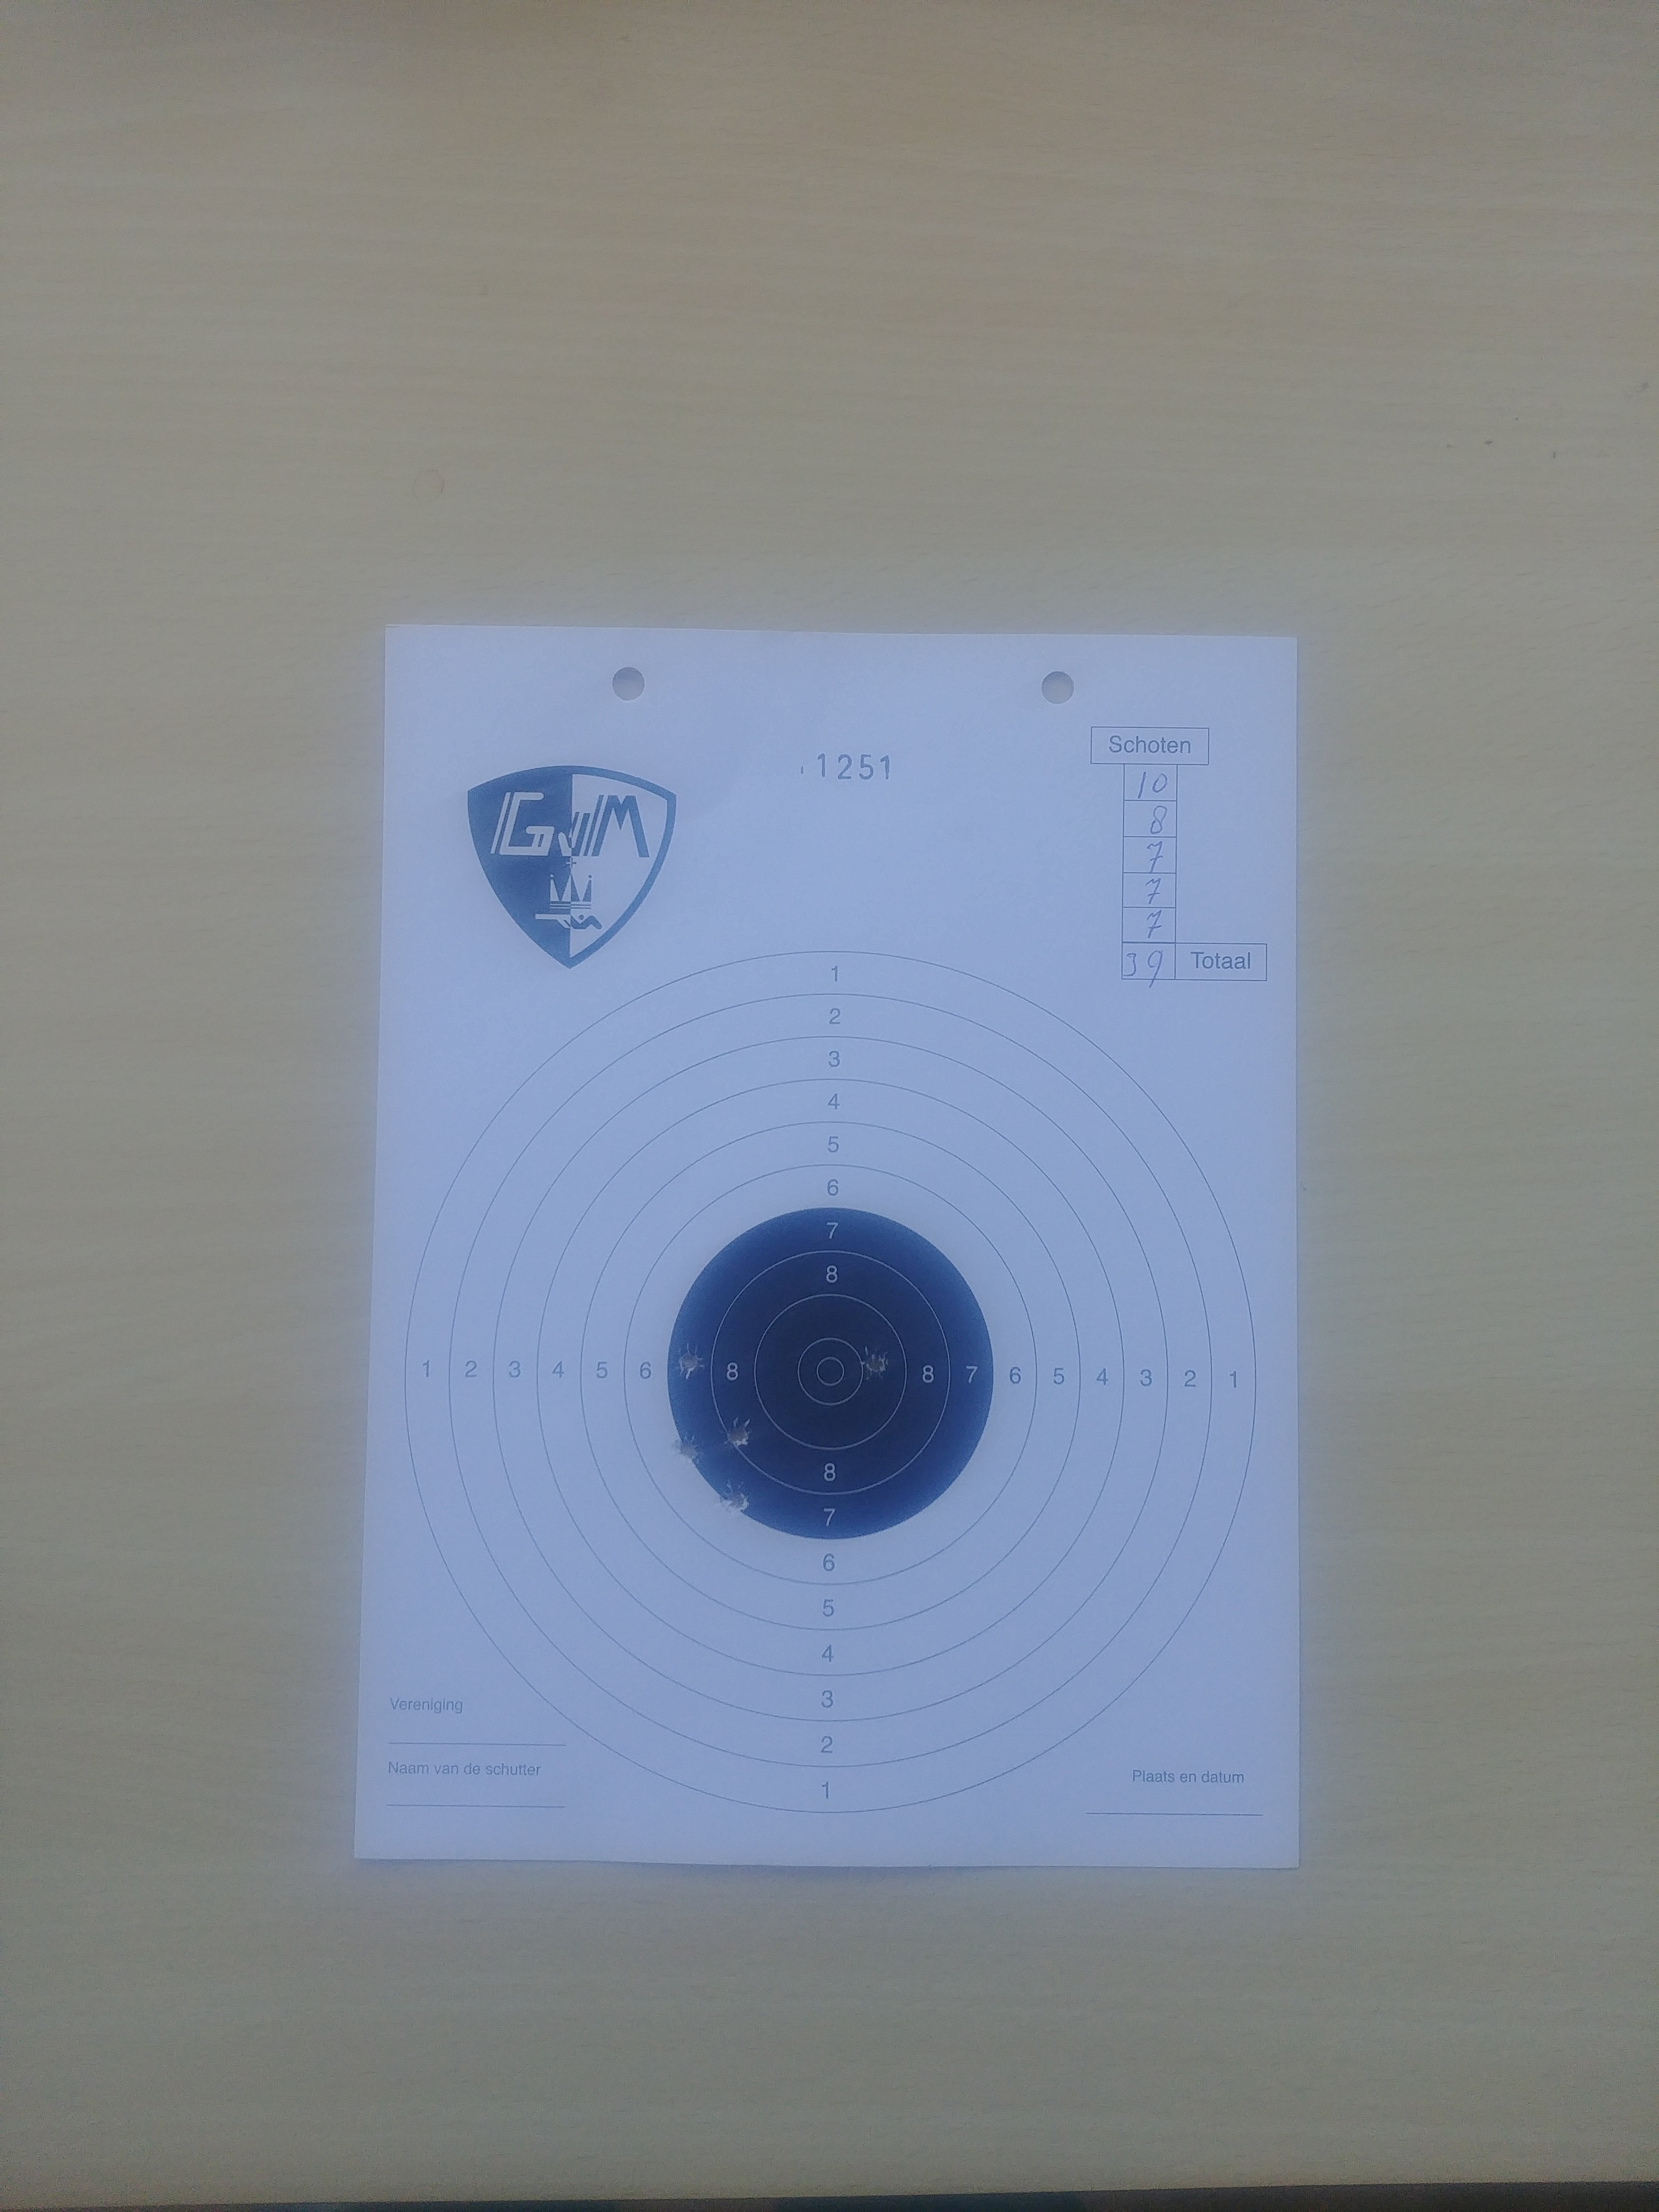center: (666, 1207, 995, 1540)
out: (403, 949, 1256, 1811)
shot: (798, 1338, 864, 1406), (857, 1345, 890, 1383), (716, 1479, 749, 1514), (674, 1343, 704, 1379), (720, 1416, 753, 1447), (673, 1432, 702, 1465)
